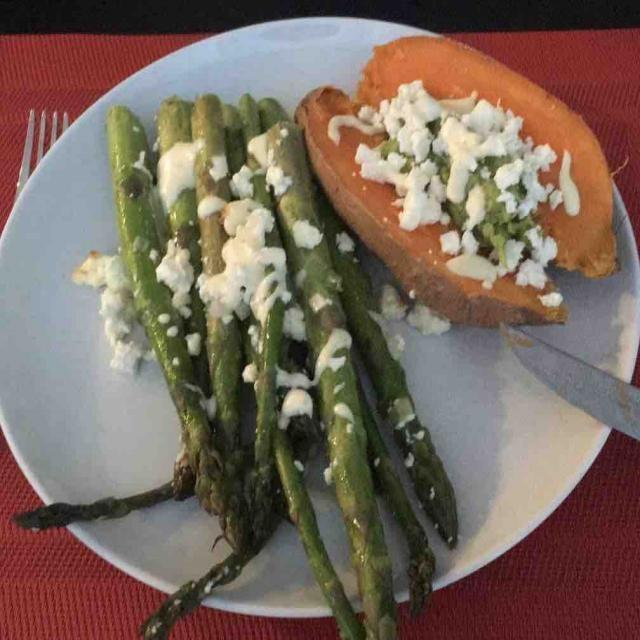asparagus: (105, 98, 523, 603)
cheese: (70, 84, 576, 379)
guacamole: (387, 123, 534, 290)
sweet-potato: (315, 32, 613, 325)
